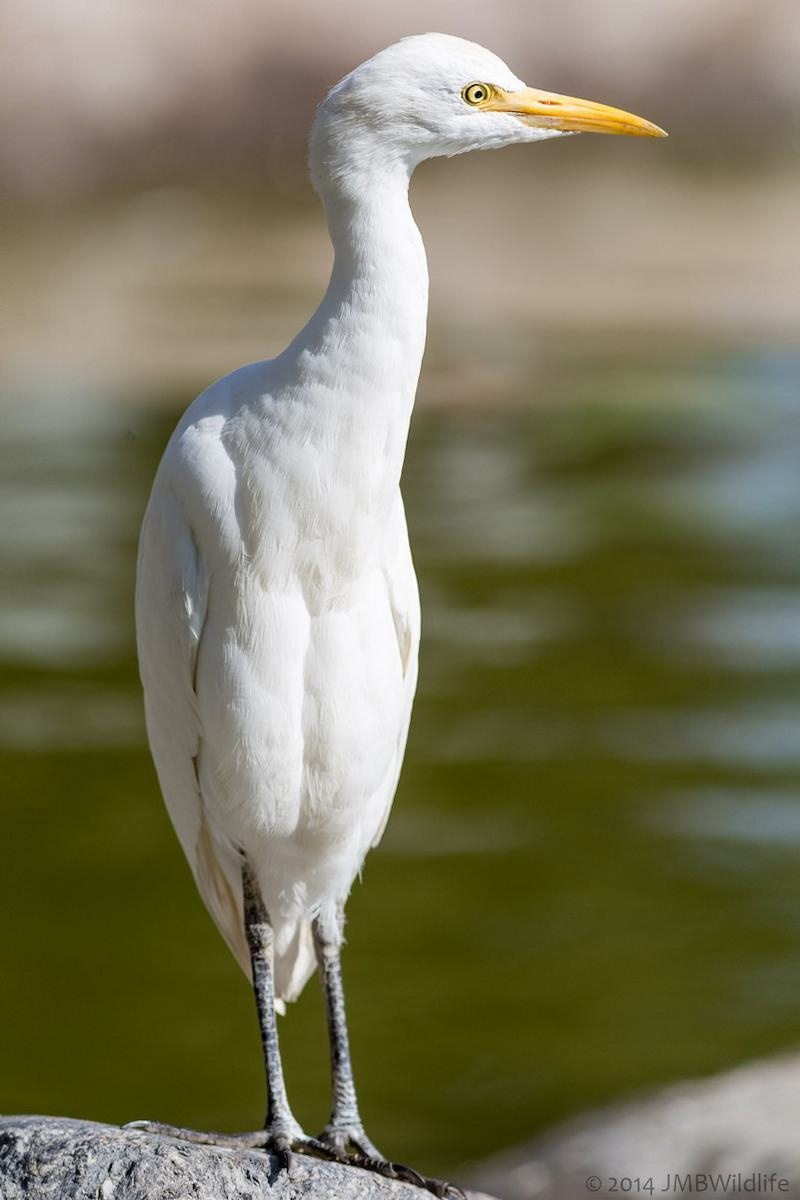egret: (80, 25, 688, 1180)
